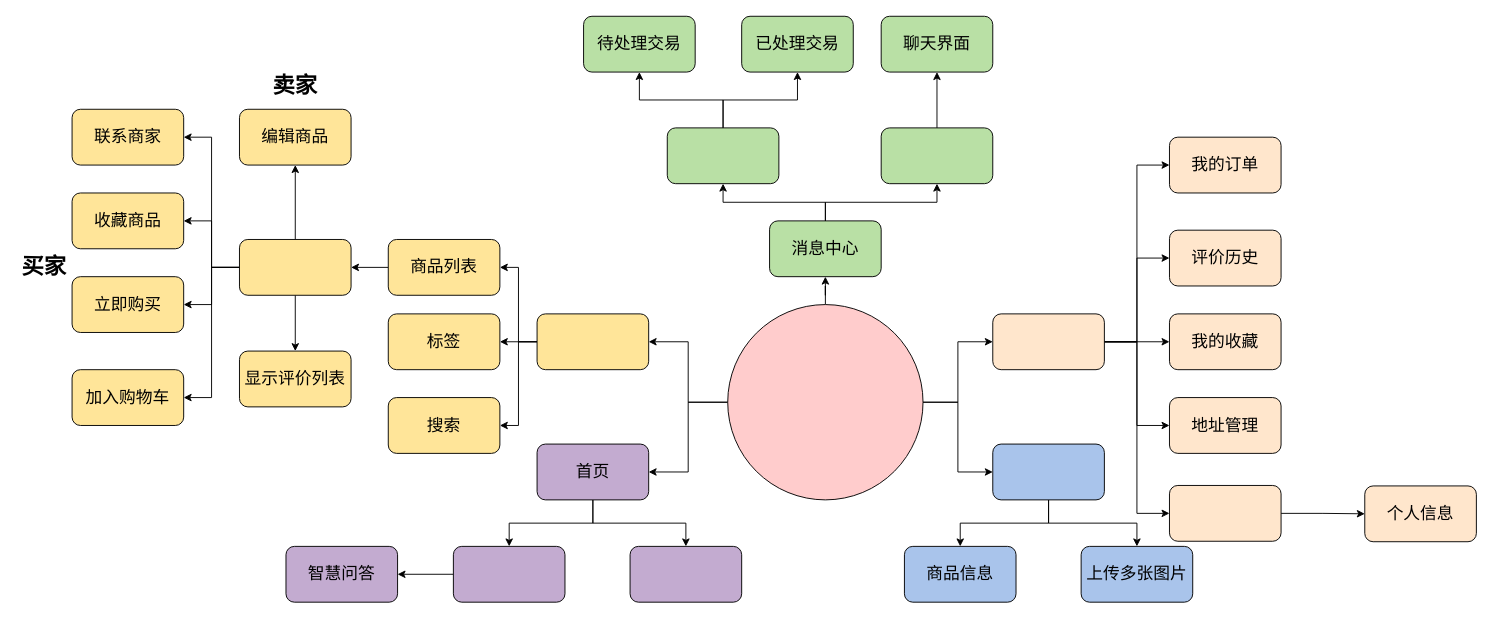
This 1493x618 diagram has some shape labels left out. The box of each missing label's shape, as (x1, y1, x2, y2) in pixels:
BUAA TradingAssistant: (727, 304, 923, 500)
个人中心: (992, 313, 1104, 370)
发布商品: (992, 443, 1104, 500)
商品广场: (536, 313, 649, 370)
商品详情页: (239, 239, 351, 295)
接入大模型API: (452, 545, 565, 602)
推荐系统: (629, 545, 742, 602)
系统通知: (666, 127, 779, 184)
联系人: (880, 127, 993, 184)
设置: (1169, 485, 1281, 541)
